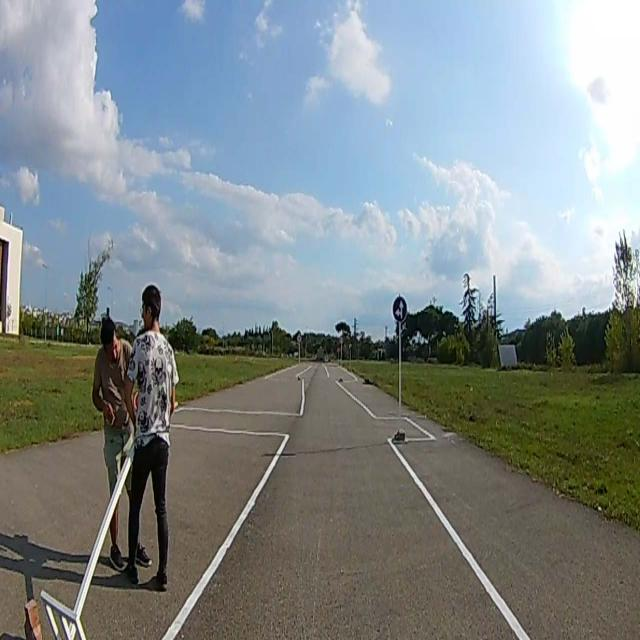ilerisol: (392, 296, 406, 323)
